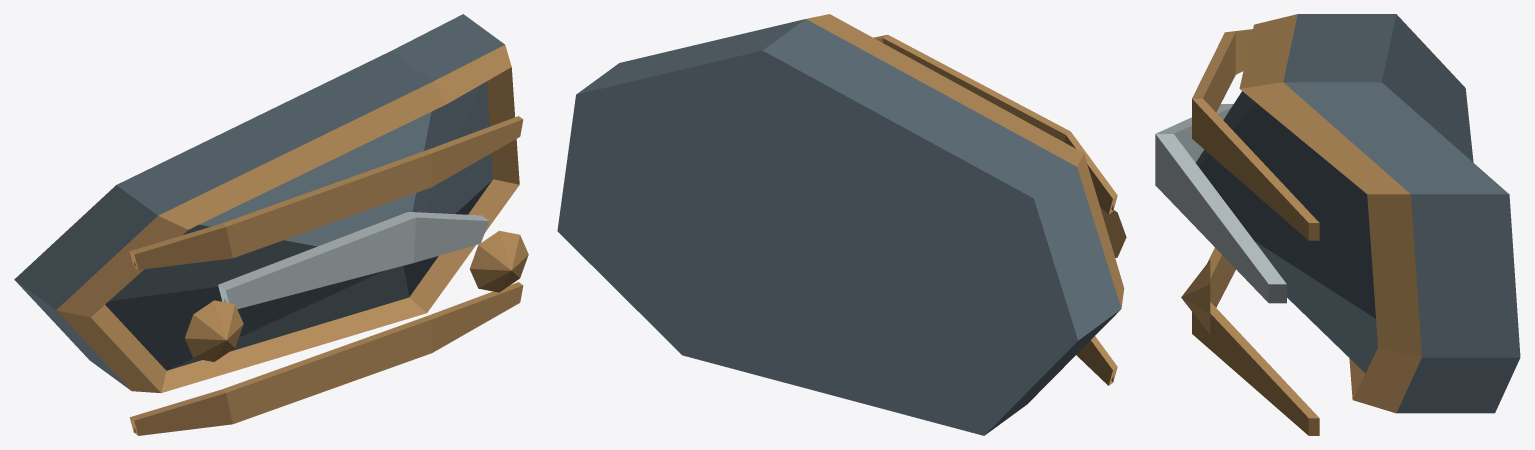
Rendered from ranger_bracer_r.glb.
3 views of the same model, side by side, from view 1: azimuth 30°, elevation 25°; view 2: azimuth 150°, elevation 25°; view 3: azimuth 270°, elevation 25° (orthographic). The views are drawn at different scales.
Visible parts, largest first — view 1: ranger_bracer_r; view 2: ranger_bracer_r; view 3: ranger_bracer_r.
Boxes of the visible parts, x1,y1,x2,y2 form: ranger_bracer_r: (14, 14, 528, 435); ranger_bracer_r: (557, 14, 1126, 435); ranger_bracer_r: (1155, 14, 1520, 435).
Size of the model in its own units: 0.179 by 0.0999 by 0.1.
